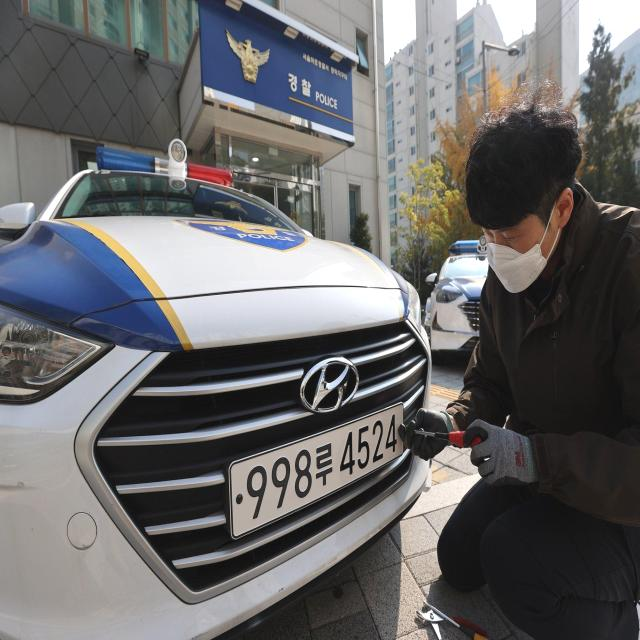car: (1, 135, 448, 640)
illegal_plate: (222, 404, 394, 548)
